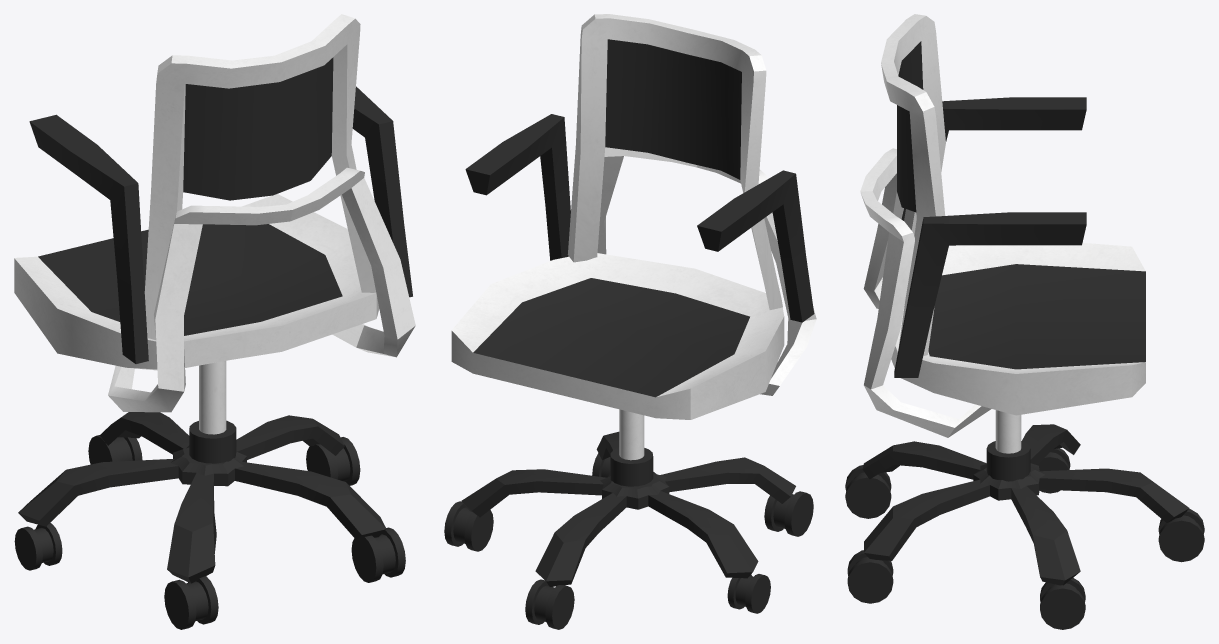
File: silla.fbx
3 renders of one model, left to right at view 1: azimuth 30°, elevation 25°; view 2: azimuth 150°, elevation 25°; view 3: azimuth 270°, elevation 25°, orthographic. The views are drawn at different scales.
Parts seen in each view (by area): view 1: silla; view 2: silla; view 3: silla.
Boxes of the visible parts, left/top/right/bottom form: silla: left=14, top=14, right=415, bottom=629; silla: left=444, top=14, right=816, bottom=629; silla: left=845, top=14, right=1204, bottom=629.
Bounding box in the file's own units: 167 × 263 × 170.
2 materials, 2 textured.
